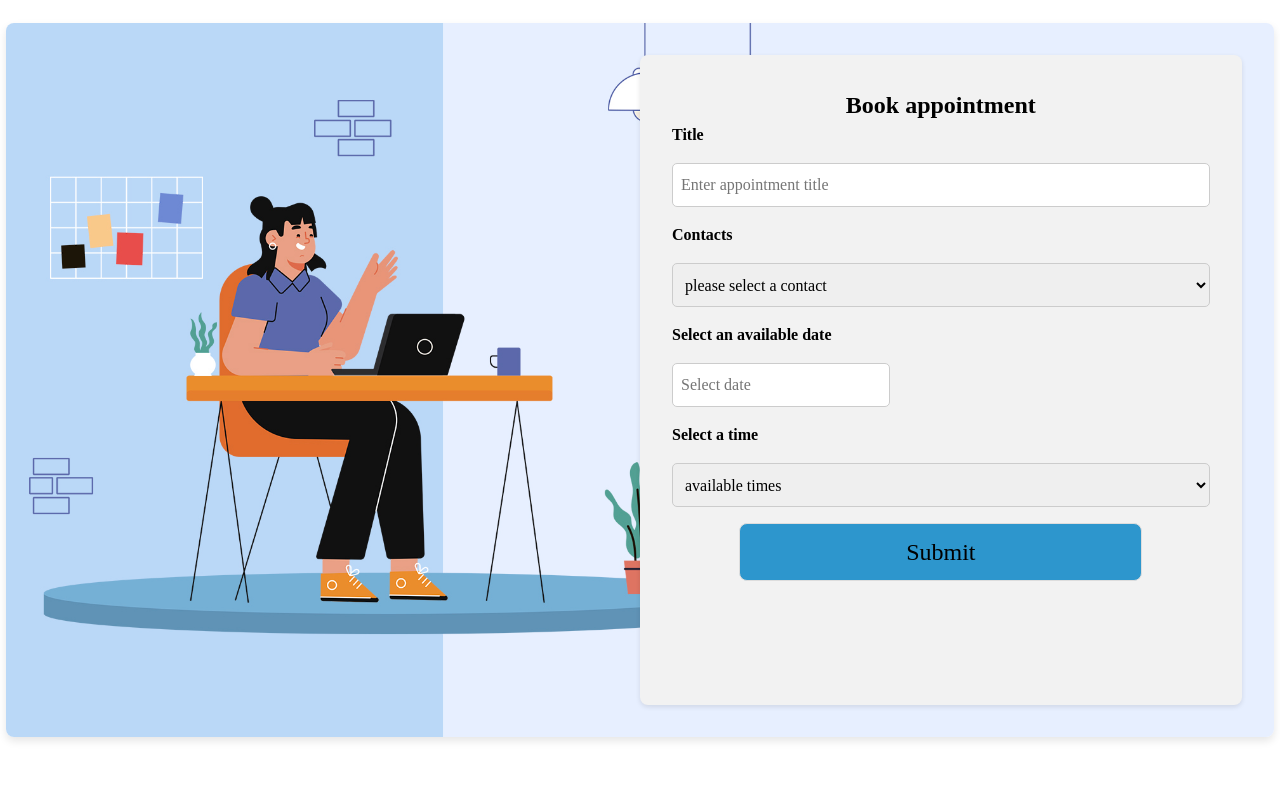
Test case: AppointmentForm Tests › inputs error if left blank › title error
Click the button "Submit" at (941, 552), box x1=739 y1=523 x2=1142 y2=581
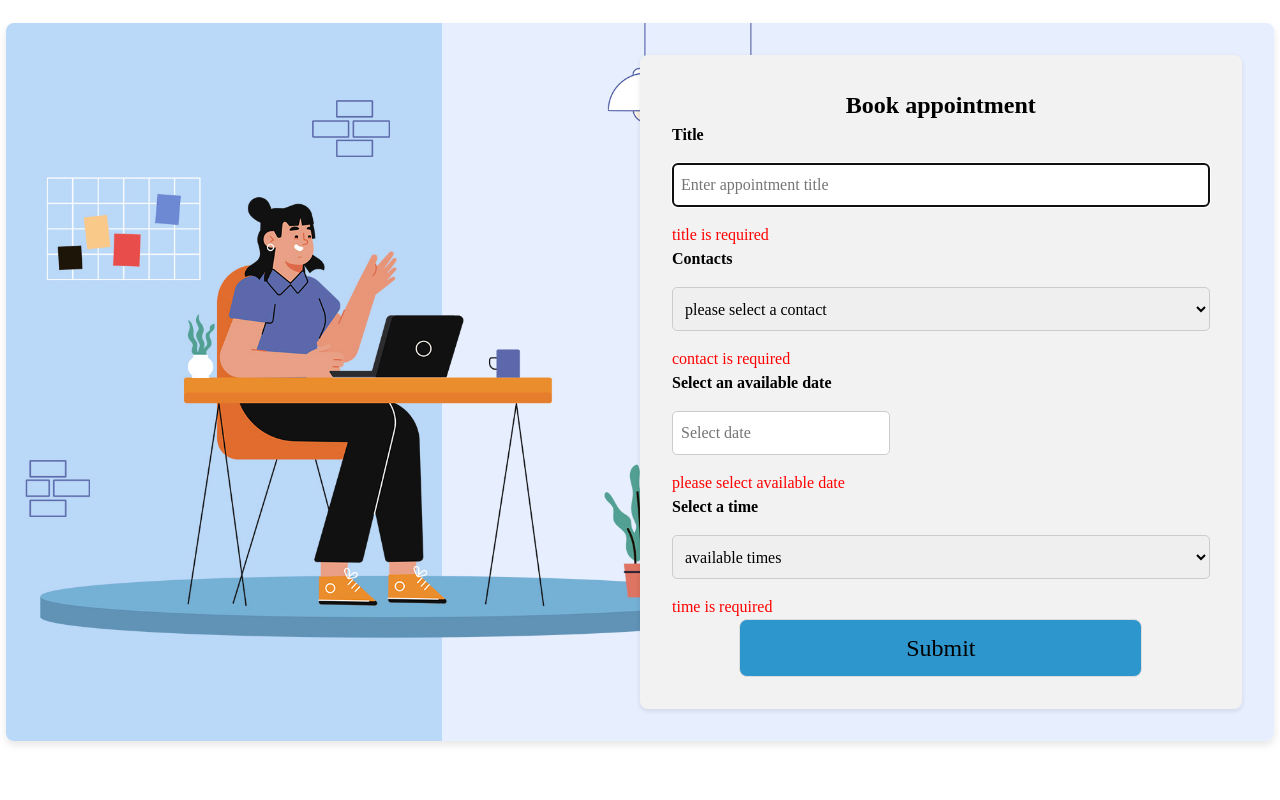
Check: the text with test id "title-error" reads "title is required", box x1=672 y1=226 x2=769 y2=243
